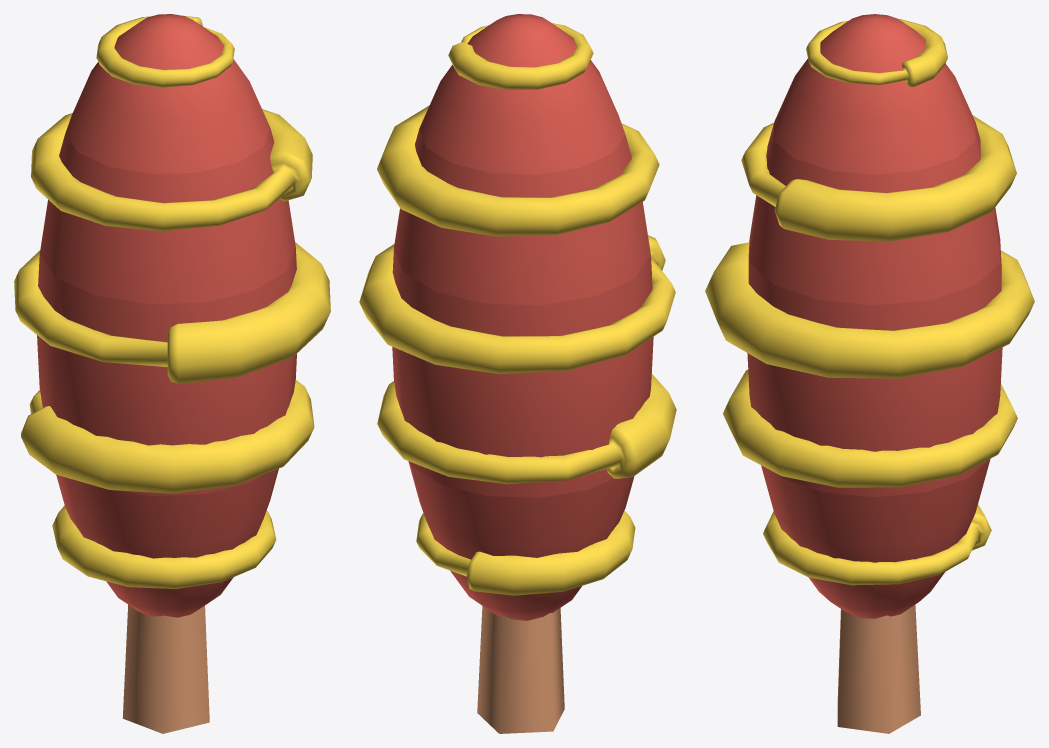
Rendered from Tree_10.fbx.
3 renders of one model, left to right at view 1: azimuth 30°, elevation 25°; view 2: azimuth 150°, elevation 25°; view 3: azimuth 270°, elevation 25°, orthographic.
Parts seen in each view (by area): view 1: polySurface171, polySurface172, polySurface173, sweep54, polySurface170, sweep53, sweep55, polySurface176, sweep52, sweep56; view 2: polySurface171, polySurface172, polySurface173, polySurface170, sweep54, sweep55, sweep53, polySurface176, sweep52, sweep56; view 3: polySurface171, polySurface173, polySurface172, sweep54, polySurface170, sweep55, sweep53, polySurface176, sweep52, sweep56.
Part boxes in pixels (x1,y1,x2,y2): polySurface171: [37, 247, 296, 495]; polySurface172: [39, 128, 295, 304]; polySurface173: [65, 14, 270, 173]; sweep54: [14, 242, 330, 384]; polySurface170: [56, 468, 278, 617]; sweep53: [21, 380, 314, 493]; sweep55: [31, 109, 312, 231]; polySurface176: [122, 604, 209, 733]; sweep52: [52, 505, 276, 589]; sweep56: [96, 15, 234, 87]; polySurface171: [392, 248, 653, 497]; polySurface172: [394, 128, 650, 305]; polySurface173: [419, 14, 625, 174]; polySurface170: [408, 461, 634, 620]; sweep54: [359, 235, 675, 374]; sweep55: [377, 105, 659, 236]; sweep53: [377, 373, 676, 484]; polySurface176: [477, 606, 564, 733]; sweep52: [416, 511, 635, 595]; sweep56: [448, 23, 593, 89]; polySurface171: [747, 240, 1002, 497]; polySurface173: [774, 14, 975, 174]; polySurface172: [749, 122, 1000, 305]; sweep54: [705, 242, 1034, 378]; polySurface170: [761, 459, 990, 618]; sweep55: [741, 115, 1016, 241]; sweep53: [723, 369, 1017, 487]; polySurface176: [837, 605, 920, 733]; sweep52: [763, 504, 991, 585]; sweep56: [806, 19, 947, 86].
Size of the model in its own units: 13.96 by 33.92 by 14.56.
